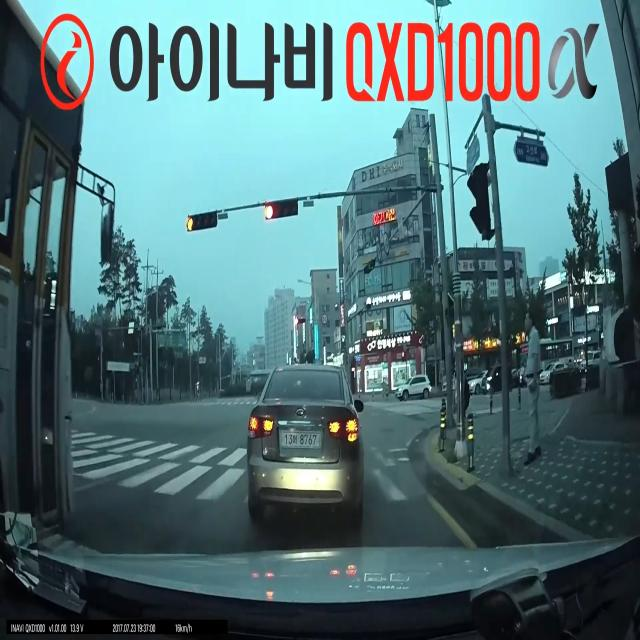Red Light: (264, 201, 274, 221), (185, 213, 194, 233)
